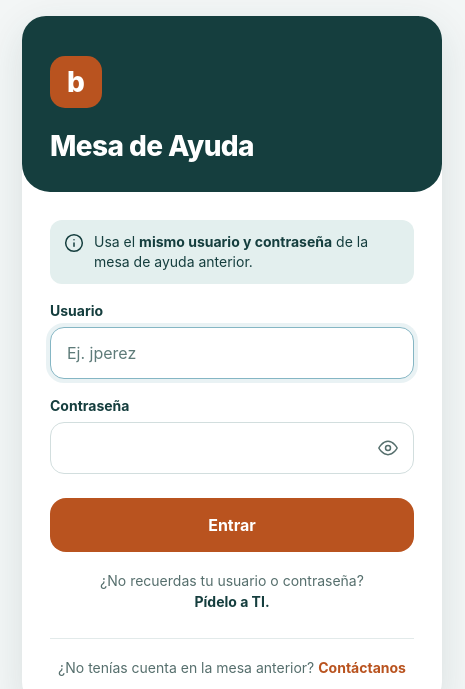
Test case: muestra el error del servidor si la contraseña actual es incorrecta
Type "LOrtiz " into the field labelled "Usuario" at (232, 353), box [50,327,414,379]
Type "vieja" into the password field labelled "Contraseña" at (232, 448), box [50,422,414,474]
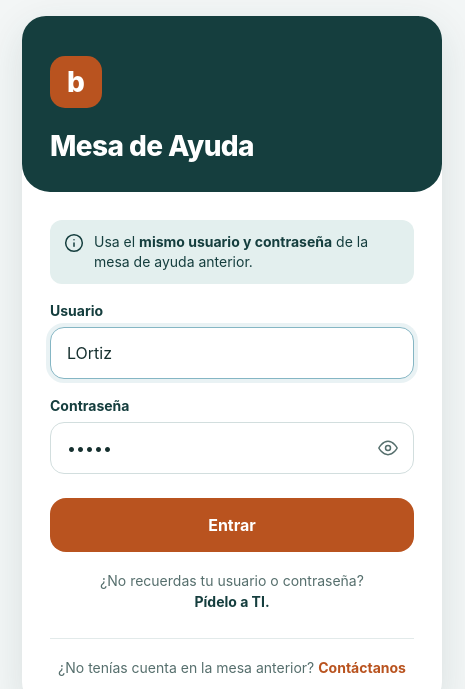
Click the button "Entrar" at (232, 525), box [50,498,414,552]
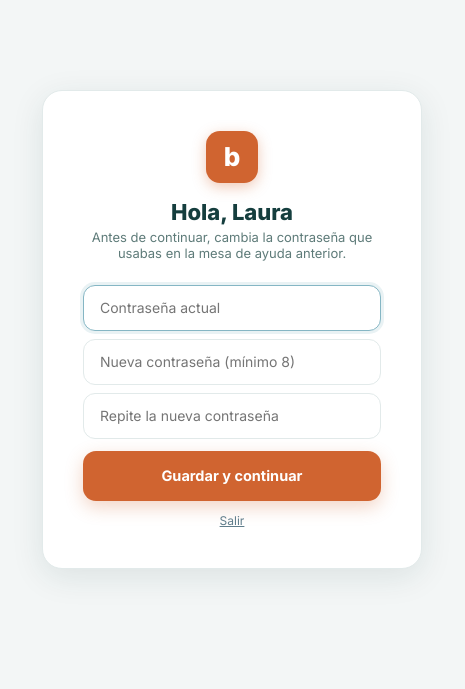
Expected: the text "cambia la contraseña que usabas" is shown, [92,228,372,260]
Type "mal" into the password field with placeholder "Contraseña actual" at (232, 308), box [83,284,381,330]
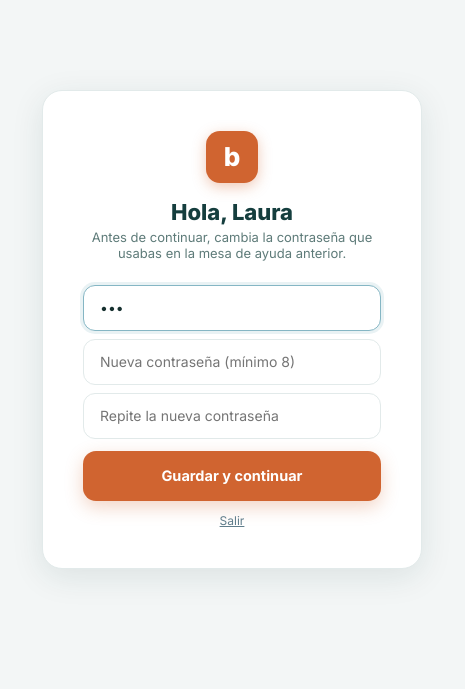
Type "NuevaClave1" into the password field with placeholder "Nueva contraseña (mínimo 8)" at (232, 362), box [83,338,381,384]
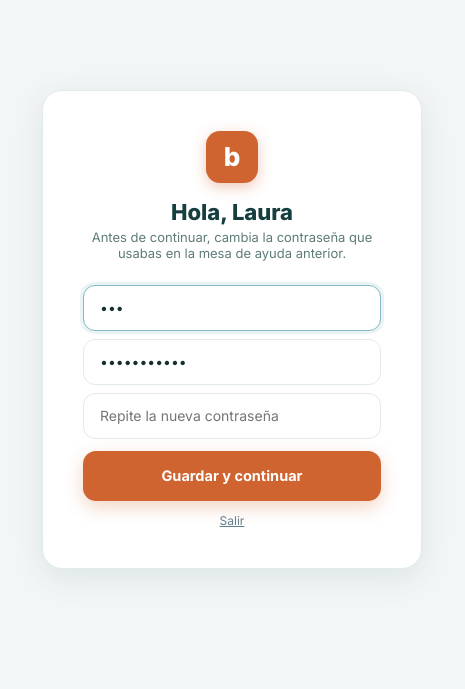
Type "NuevaClave1" into the password field with placeholder "Repite la nueva contraseña" at (232, 416), box [83,392,381,438]
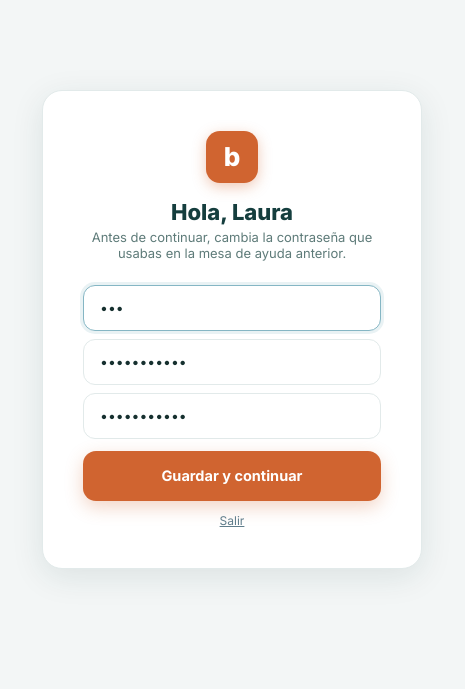
Click the button "Guardar y continuar" at (232, 476), box [83,450,381,500]
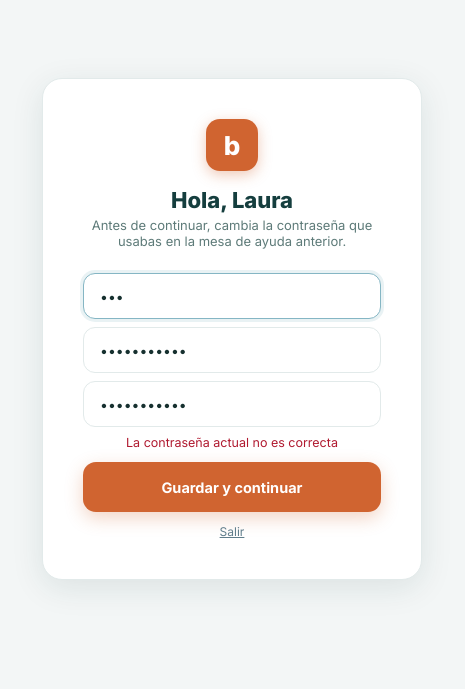
Expected: the text "La contraseña actual no es correcta" is shown, [126,435,338,450]
